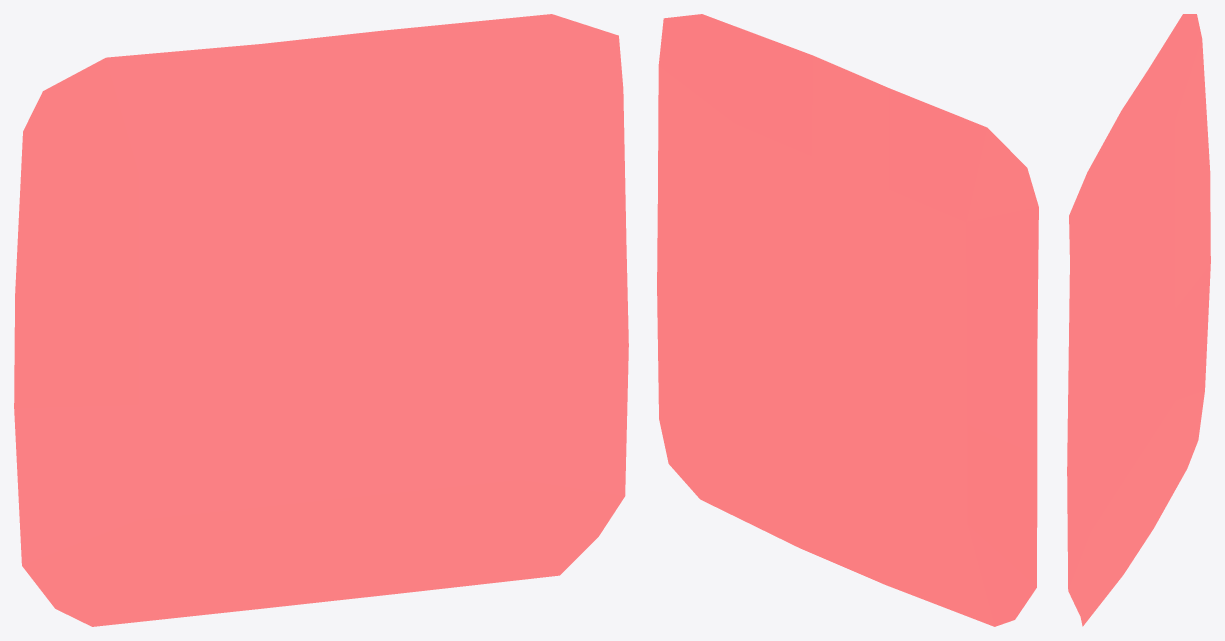
The model's file is triggers_006.gltf.
The picture shows the model from 3 angles, left to right: view 1: azimuth 30°, elevation 25°; view 2: azimuth 150°, elevation 25°; view 3: azimuth 270°, elevation 25°; orthographic projection. The views are drawn at different scales.
Parts seen in each view (by area): view 1: Trigger006; view 2: Trigger006; view 3: Trigger006.
Part boxes in pixels (x1,y1,x2,y2): Trigger006: (14, 14, 628, 626); Trigger006: (657, 14, 1038, 626); Trigger006: (1067, 14, 1210, 626).
Size of the model in its own units: 1.46 by 1.51 by 0.427.
